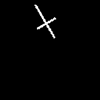single_crochet: (35, 5, 55, 37)
